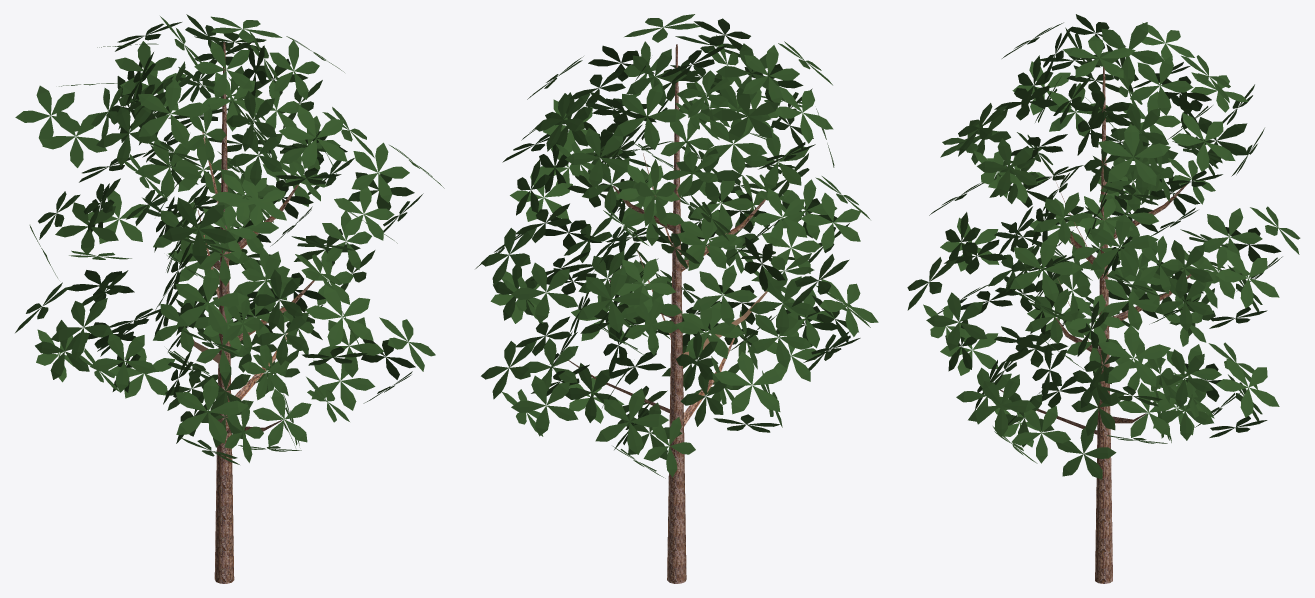
File: tree2.glb
The picture shows the model from 3 angles, left to right: view 1: azimuth 30°, elevation 25°; view 2: azimuth 150°, elevation 25°; view 3: azimuth 270°, elevation 25°; orthographic projection. The views are drawn at different scales.
Visible parts, largest first — view 1: Tree2; view 2: Tree2; view 3: Tree2.
Part boxes in pixels (box(x1,y1,x2,y2)): Tree2: box(15, 14, 444, 583); Tree2: box(475, 14, 878, 583); Tree2: box(907, 14, 1300, 583).
Size of the model in its own units: 2.52 by 3.66 by 2.42.
2 materials, 2 textured.
